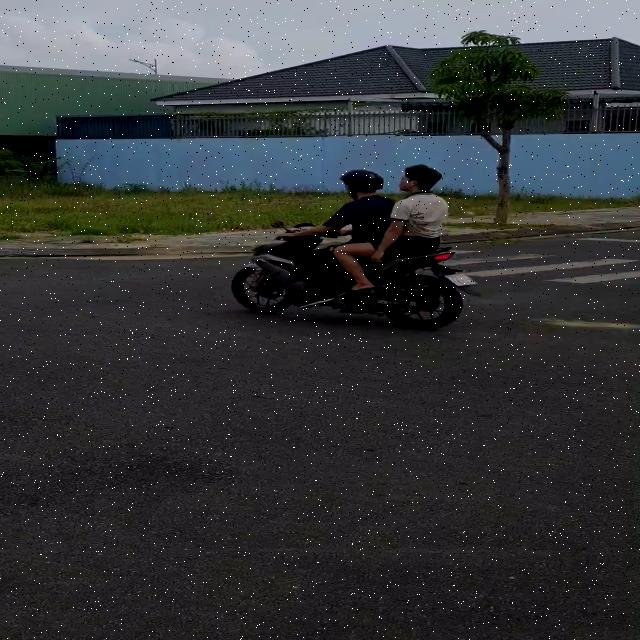helmet: (341, 169, 384, 205)
no_helmet: (402, 162, 442, 197)
